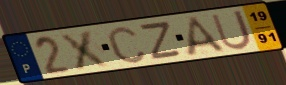2: (34, 34, 74, 76)
A: (186, 14, 230, 58)
C: (104, 25, 149, 65)
U: (208, 8, 254, 52)
X: (57, 28, 114, 71)
Z: (139, 19, 184, 62)
